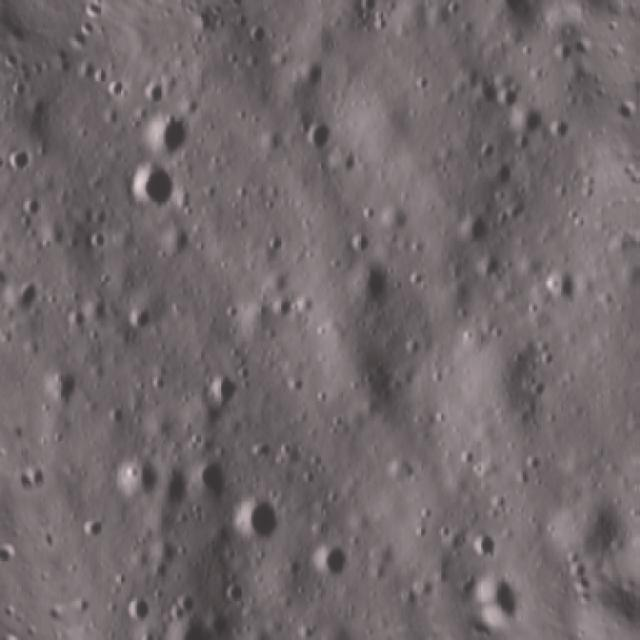crater: (221, 486, 294, 552), (124, 148, 188, 220), (110, 449, 175, 514), (135, 110, 202, 172), (31, 354, 94, 418), (194, 366, 251, 420), (189, 454, 240, 511), (308, 536, 364, 587), (2, 271, 52, 324), (454, 206, 504, 256), (299, 115, 347, 160), (118, 297, 162, 341), (120, 589, 162, 634), (462, 525, 507, 566), (17, 188, 57, 230), (78, 509, 118, 548), (1, 138, 38, 180)
